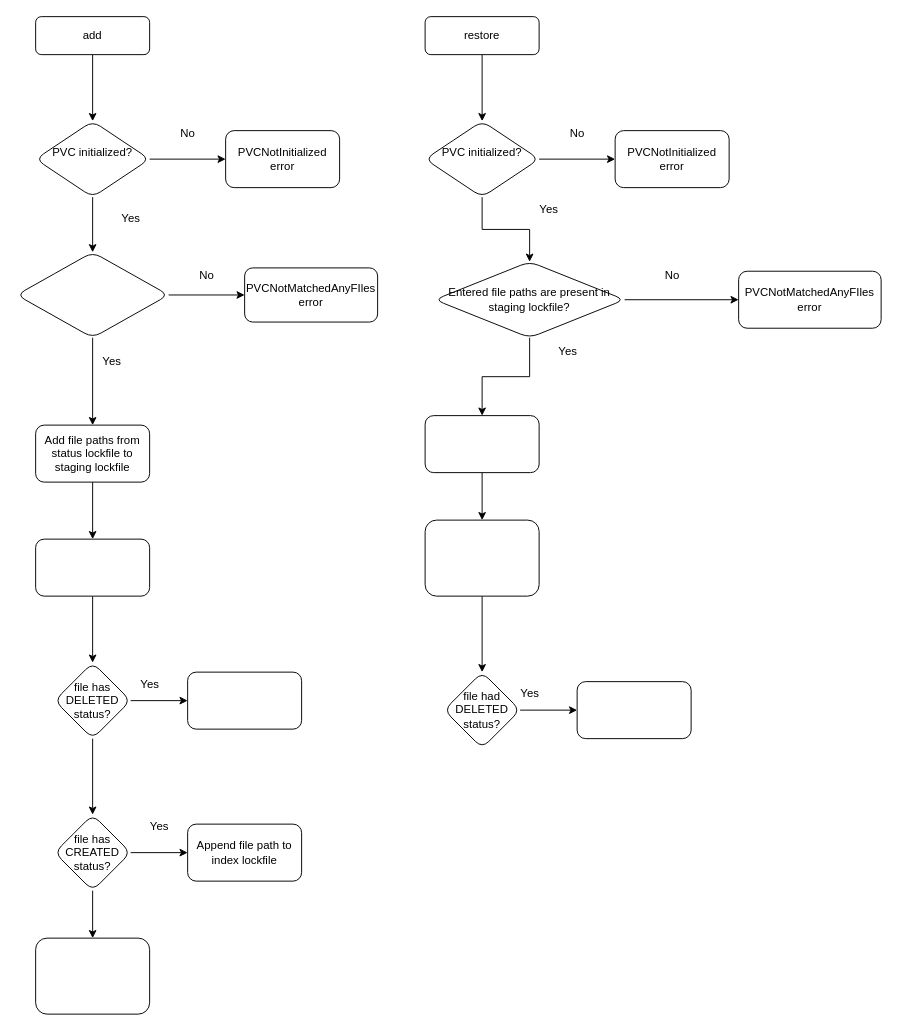
This 898x1031 diagram has some shape labels left out. Each missing label, with the centre of its shape:
"Add files from staging area lockfile to status lockfile /directory" goes at (481,444).
"Add files from staging area lockfile to the index directory" goes at (92,567).
"Apend the file path back to index lockfile" goes at (633,710).
"delete files from staging area that has been added to status" goes at (481,557).
"delete files from status, that has been added to staging area" goes at (92,975).
"Entered file paths present in status lockfile?" goes at (92,294).
"Remove file path from index lockfile" goes at (244,700).
